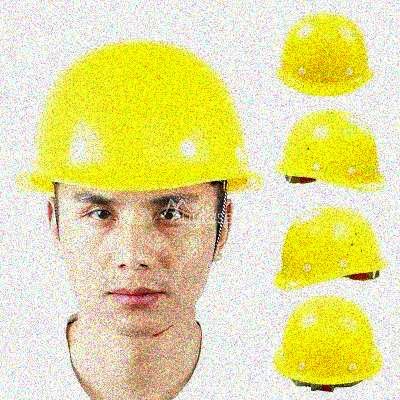helmet: (22, 40, 265, 338)
